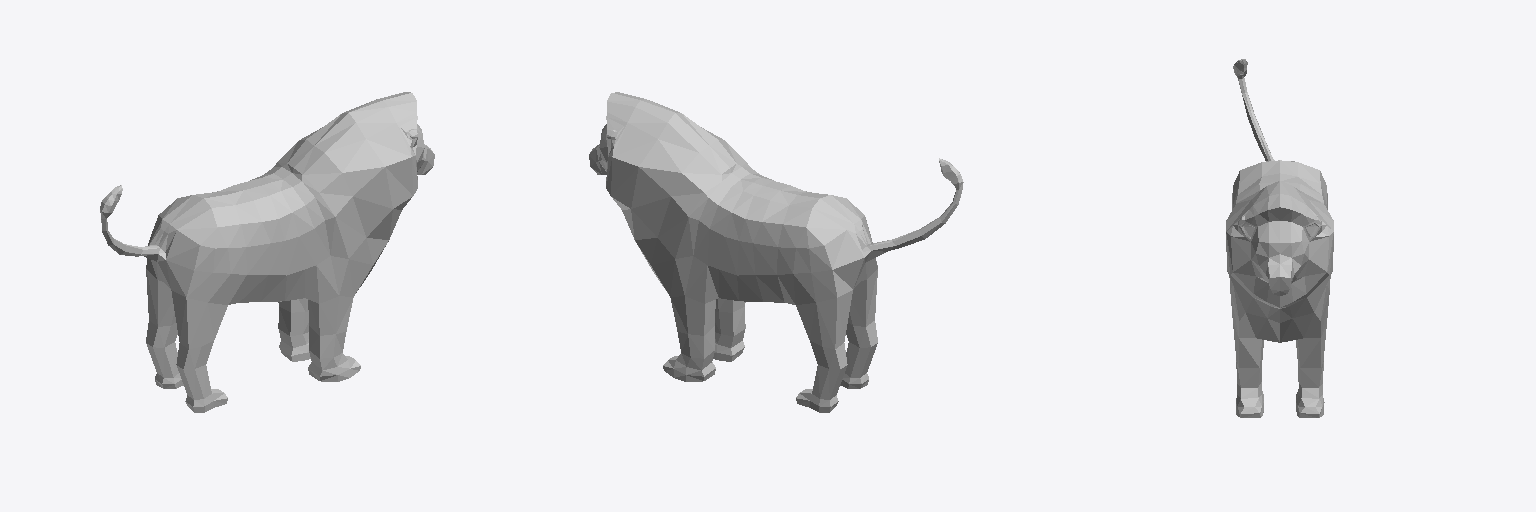
File: lion2.obj
3 views of the same model, side by side, from view 1: azimuth 30°, elevation 25°; view 2: azimuth 150°, elevation 25°; view 3: azimuth 270°, elevation 25° (orthographic).
Visible parts, largest first — view 1: Lion_Plane; view 2: Lion_Plane; view 3: Lion_Plane.
Boxes of the visible parts, box(x1,y1,x2,y2) form: Lion_Plane: box(100, 92, 434, 412); Lion_Plane: box(589, 92, 963, 412); Lion_Plane: box(1226, 59, 1333, 417).
Bounding box in the file's own units: 1.96 × 1.34 × 0.5258.